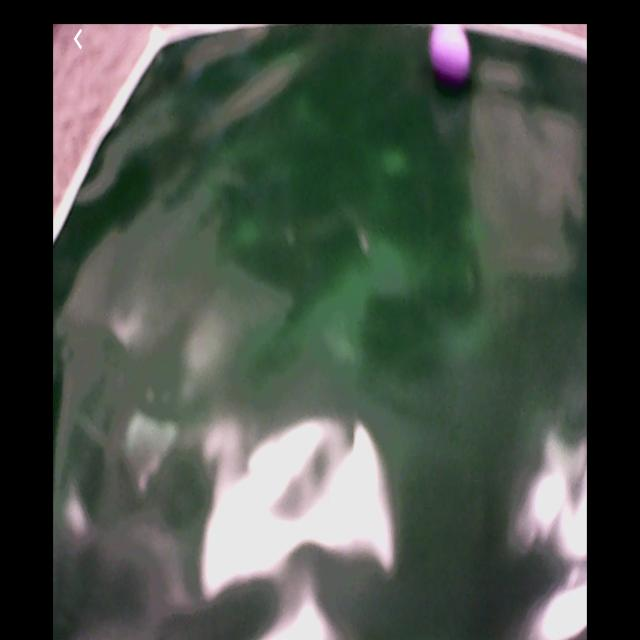ball: (432, 27, 475, 83)
